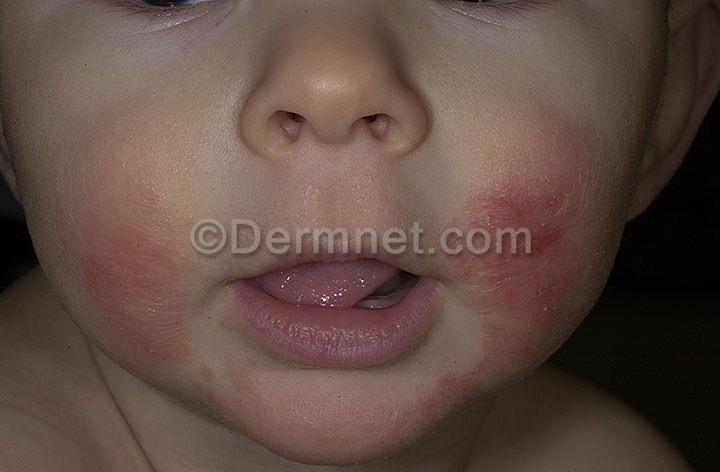Eczema: (50, 154, 214, 369), (447, 160, 588, 369), (230, 369, 448, 453)
